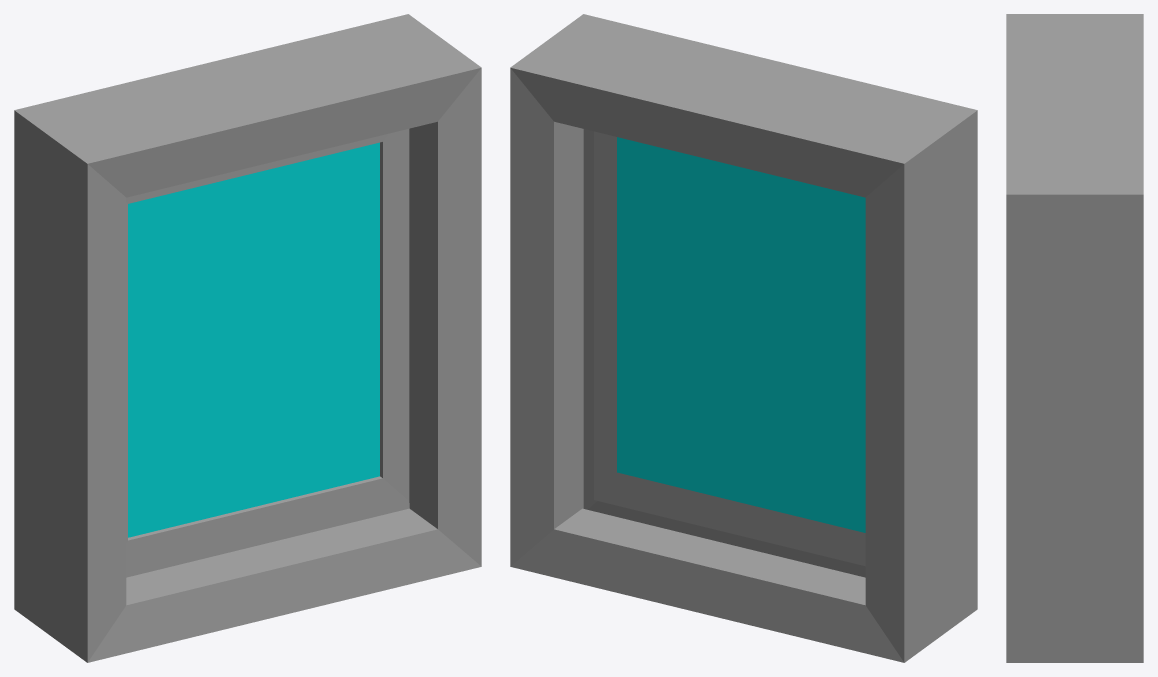
Rendered from WindowB.fbx.
3 renders of one model, left to right at view 1: azimuth 30°, elevation 25°; view 2: azimuth 150°, elevation 25°; view 3: azimuth 270°, elevation 25°, orthographic. The views are drawn at different scales.
Visible parts, largest first — view 1: WindowB; view 2: WindowB; view 3: WindowB.
Part boxes in pixels (x1,y1,x2,y2): WindowB: (14,14,481,662); WindowB: (510,14,977,662); WindowB: (1006,14,1143,662).
Bounding box in the file's own units: 2.56 × 3.1 × 0.8247.
